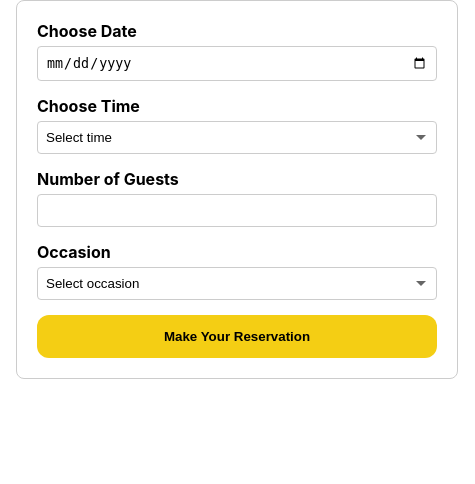
Test: BookingForm › should show error when date is invalid
The width and height of the screenshot is (475, 484).
Click the button "Make Your Reservation" at {"x": 237, "y": 337}, box [37,315,437,358]
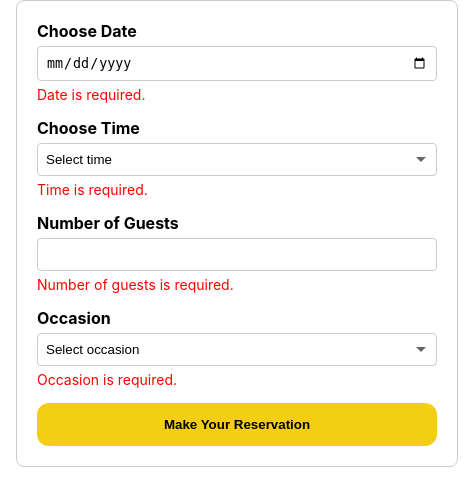
Result: the text "Date is required." is shown at [37,86,146,103]
